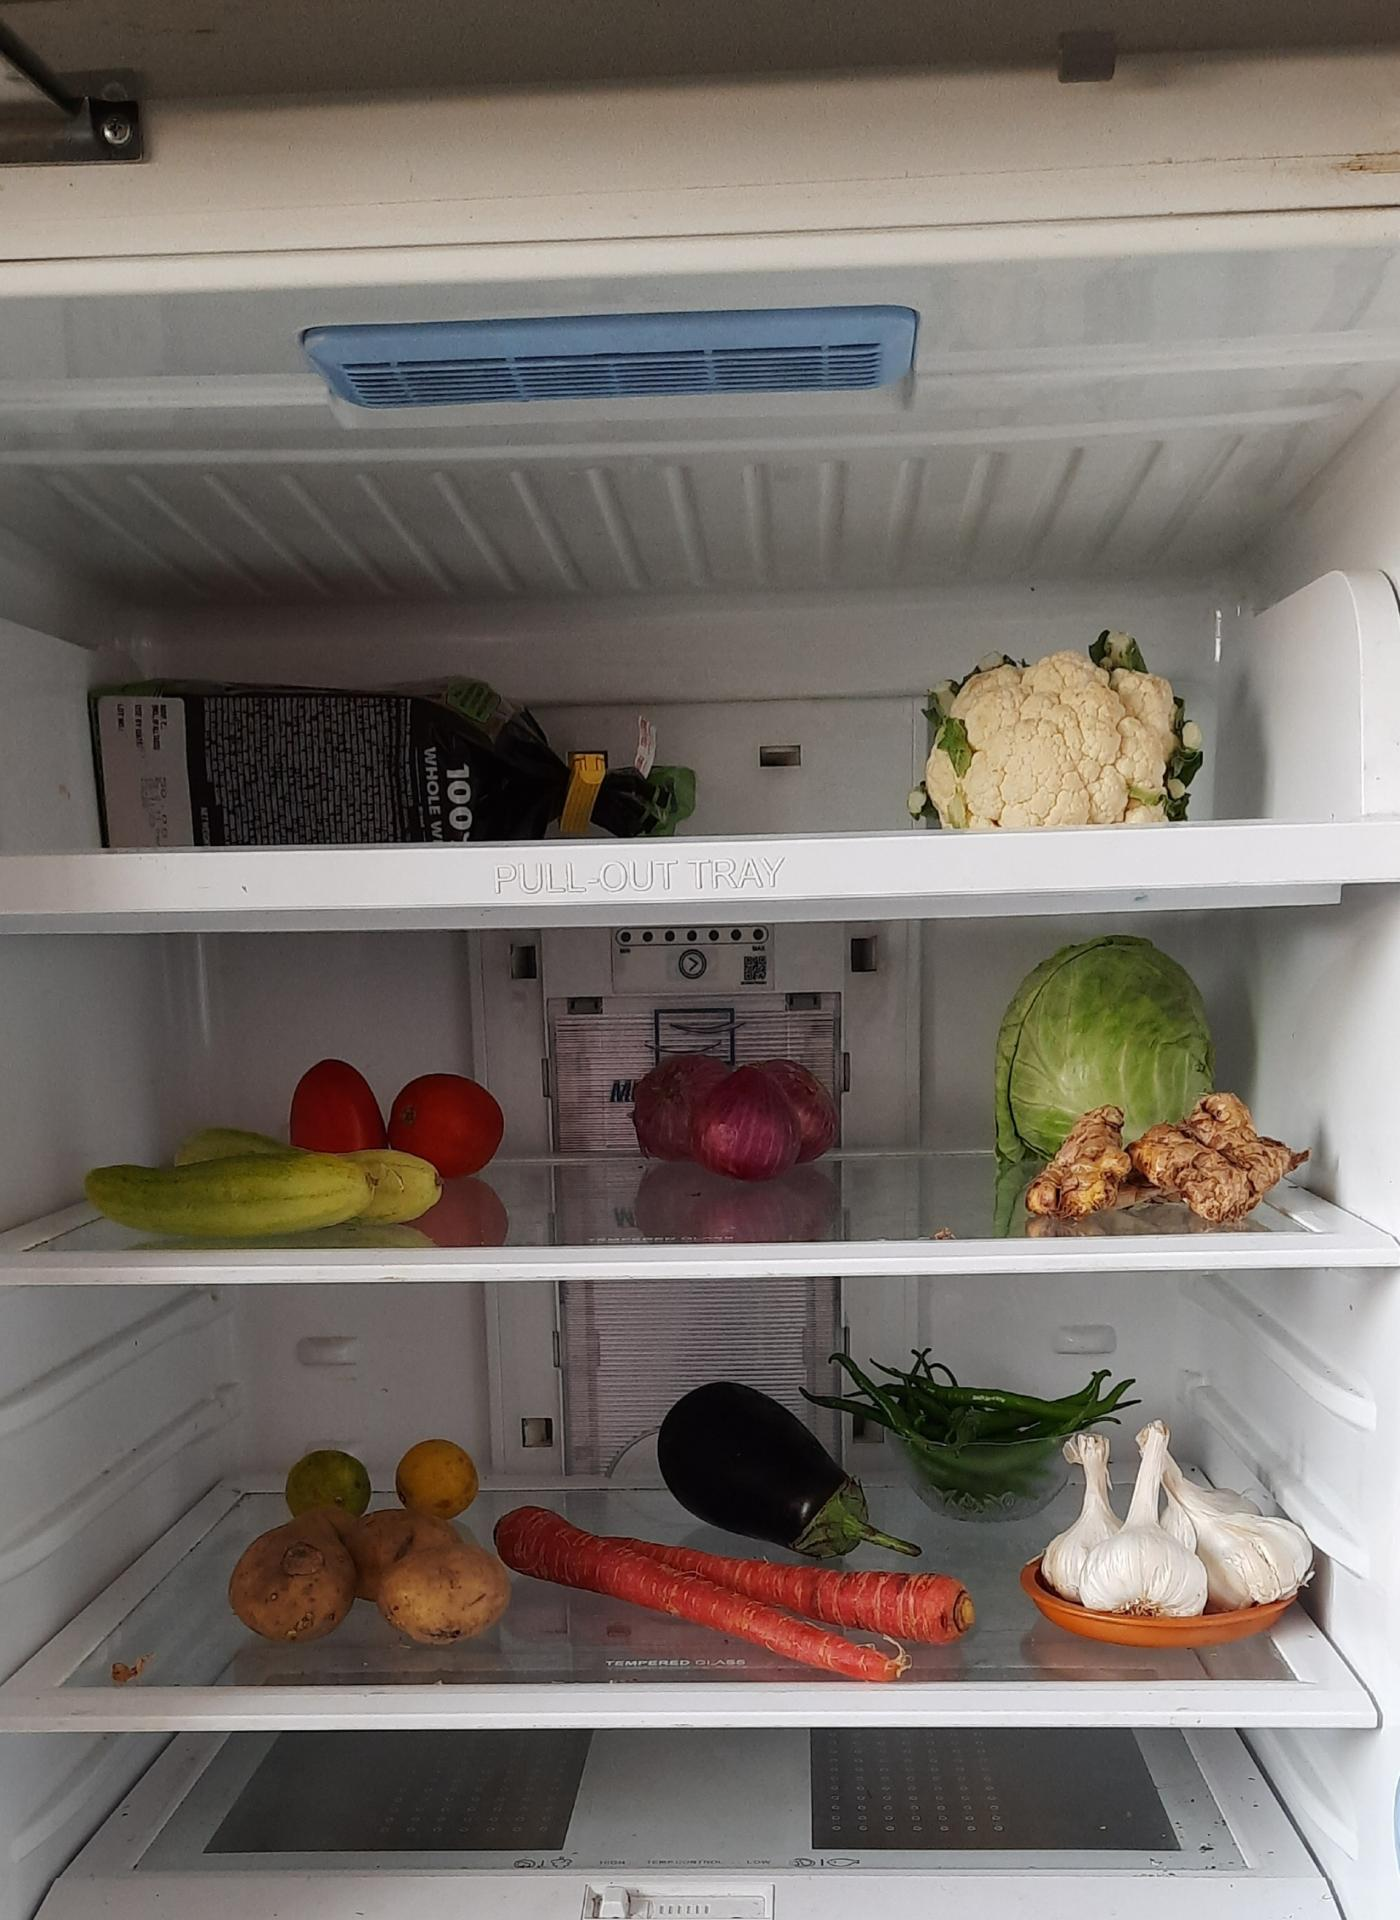bread: (97, 690, 675, 856)
brinjal: (655, 1371, 927, 1567)
cabbage: (991, 938, 1212, 1155)
carrots: (496, 1504, 986, 1677)
cauliflower: (924, 628, 1206, 824)
chillies: (857, 1358, 1129, 1516)
cucumber: (82, 1131, 462, 1237)
garlic: (1044, 1418, 1312, 1613)
ginger: (1014, 1090, 1309, 1222)
lemon: (279, 1431, 494, 1531)
onion: (617, 1039, 848, 1184)
potato: (228, 1506, 514, 1643)
tomato: (288, 1057, 502, 1164), (288, 1057, 385, 1154)
